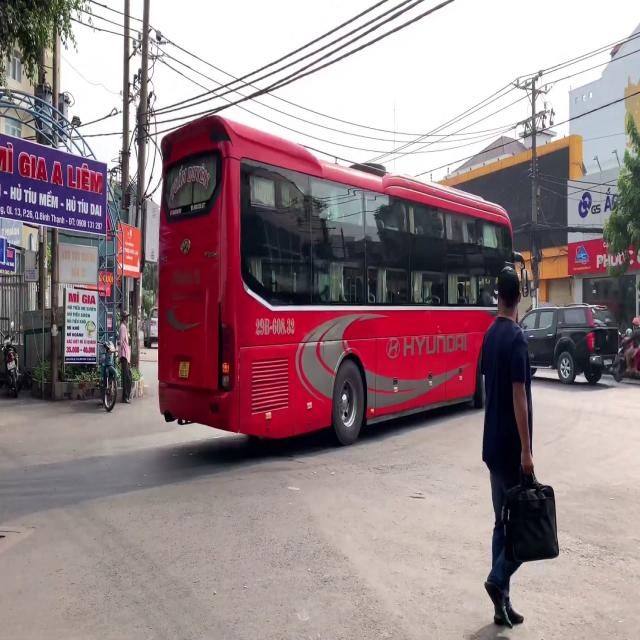bien_vang: (178, 359, 189, 377)
